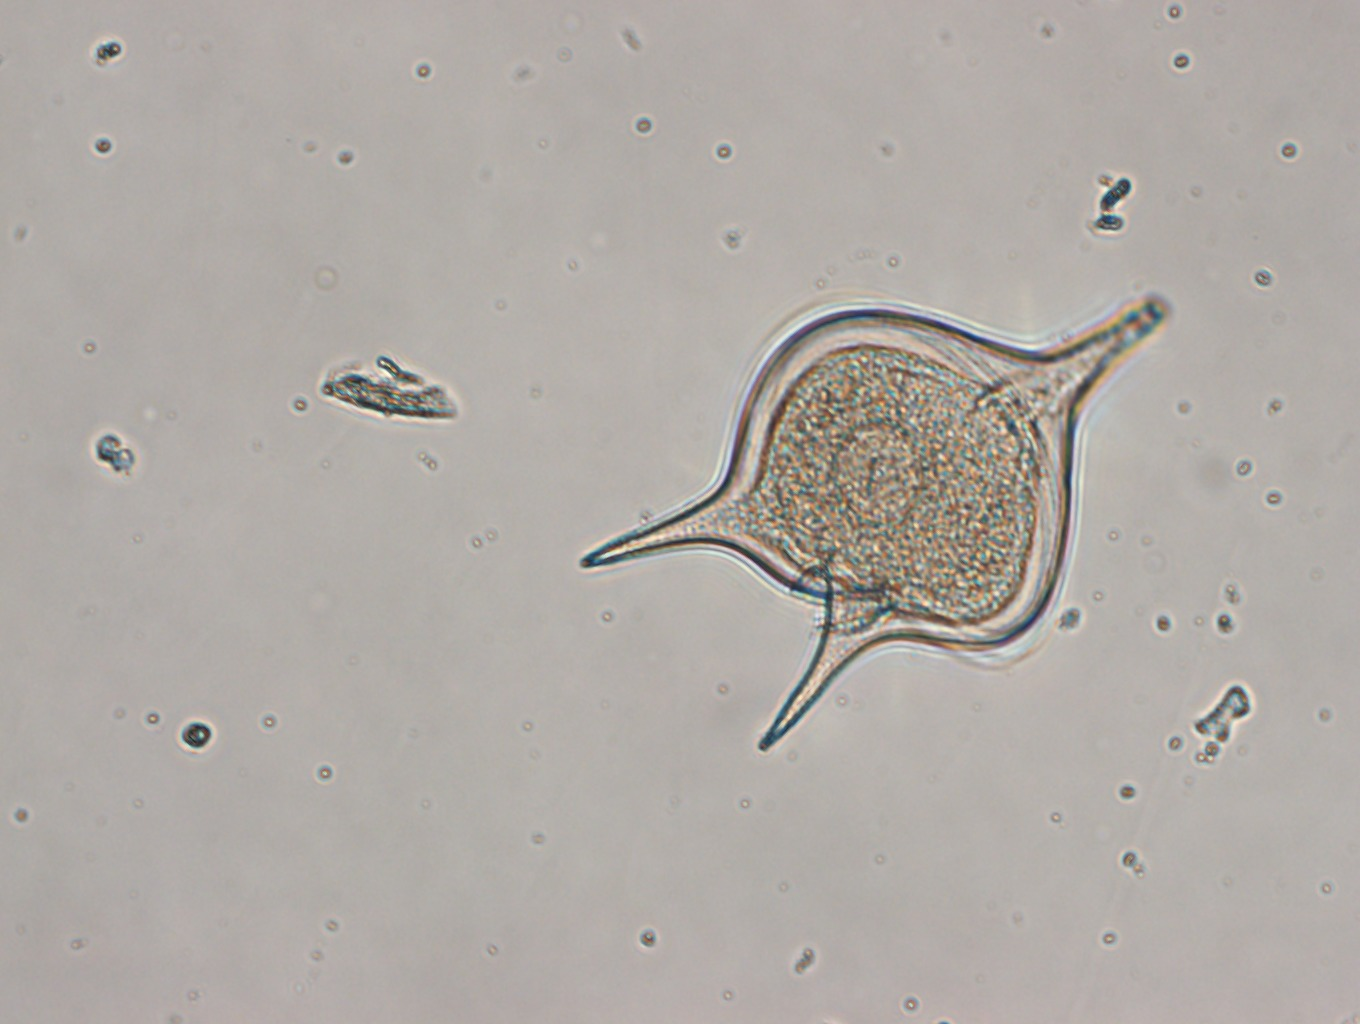protoperidinium: (579, 294, 1168, 750)
